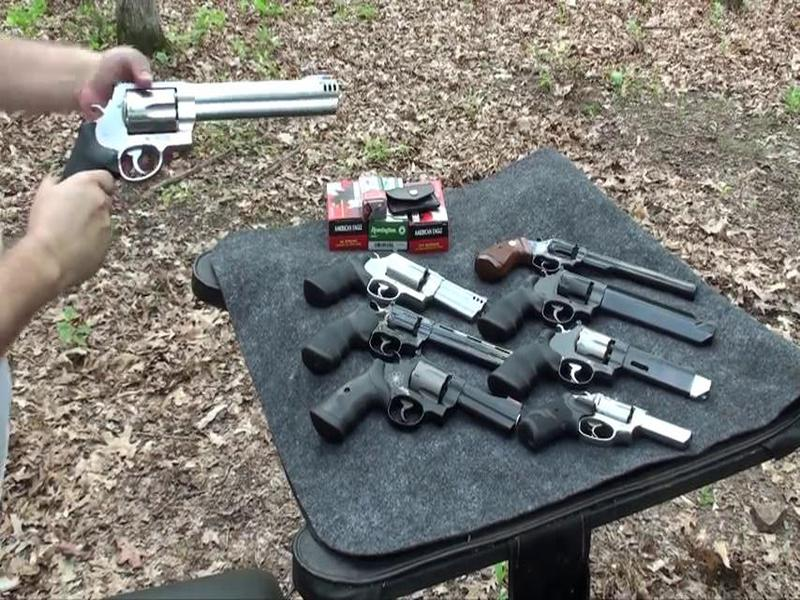Revolver: (49, 60, 340, 222)
